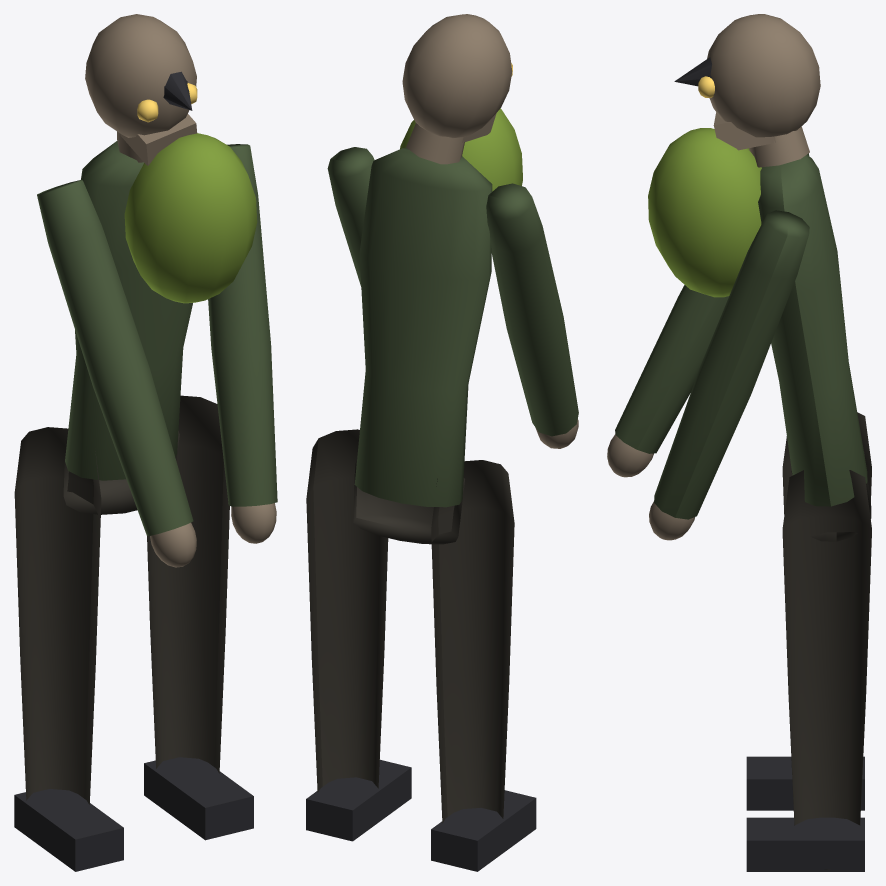
File: husk_spitter.glb
3 renders of one model, left to right at view 1: azimuth 30°, elevation 25°; view 2: azimuth 150°, elevation 25°; view 3: azimuth 270°, elevation 25°, orthographic. The views are drawn at different scales.
Parts seen in each view (by area): view 1: husk_spitter; view 2: husk_spitter; view 3: husk_spitter.
Boxes of the visible parts, box(x1,y1,x2,y2) form: husk_spitter: box(14, 14, 277, 871); husk_spitter: box(306, 14, 578, 871); husk_spitter: box(607, 14, 871, 871).
Size of what is drawn, in the model's own units: 0.484 by 1.85 by 0.5523.
